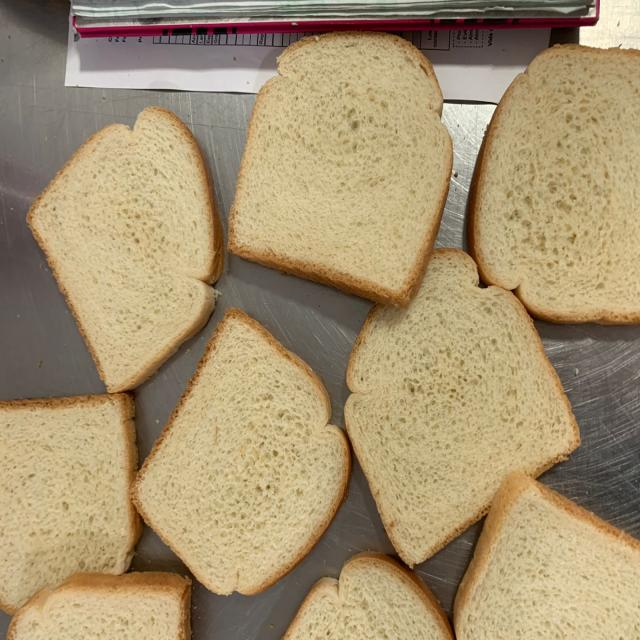pan: (345, 248, 582, 571), (229, 30, 453, 307), (132, 310, 350, 594), (26, 106, 227, 392), (462, 47, 640, 321)
